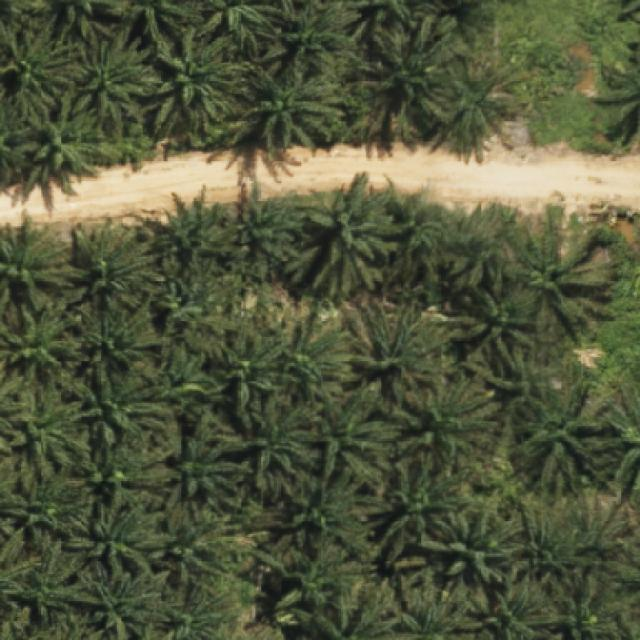Kelapa_Sawit: (492, 202, 620, 346), (510, 361, 607, 507), (339, 294, 452, 418), (303, 172, 405, 299), (368, 450, 477, 567), (265, 464, 386, 564), (148, 25, 248, 143), (393, 370, 501, 478), (418, 487, 527, 591), (62, 490, 176, 588), (62, 432, 178, 528), (66, 293, 169, 401), (365, 11, 460, 128), (236, 55, 347, 151), (310, 377, 398, 498), (146, 514, 265, 598), (64, 365, 171, 457), (162, 417, 256, 520), (62, 218, 166, 310), (66, 26, 154, 134), (563, 488, 640, 610), (436, 50, 527, 153), (157, 184, 245, 284), (232, 398, 320, 498), (474, 328, 561, 424), (278, 309, 358, 413), (270, 536, 378, 612), (18, 97, 99, 197), (508, 498, 590, 594), (382, 180, 449, 295), (228, 184, 304, 284), (450, 285, 541, 366), (216, 325, 292, 417), (131, 341, 226, 414), (443, 199, 512, 299)
